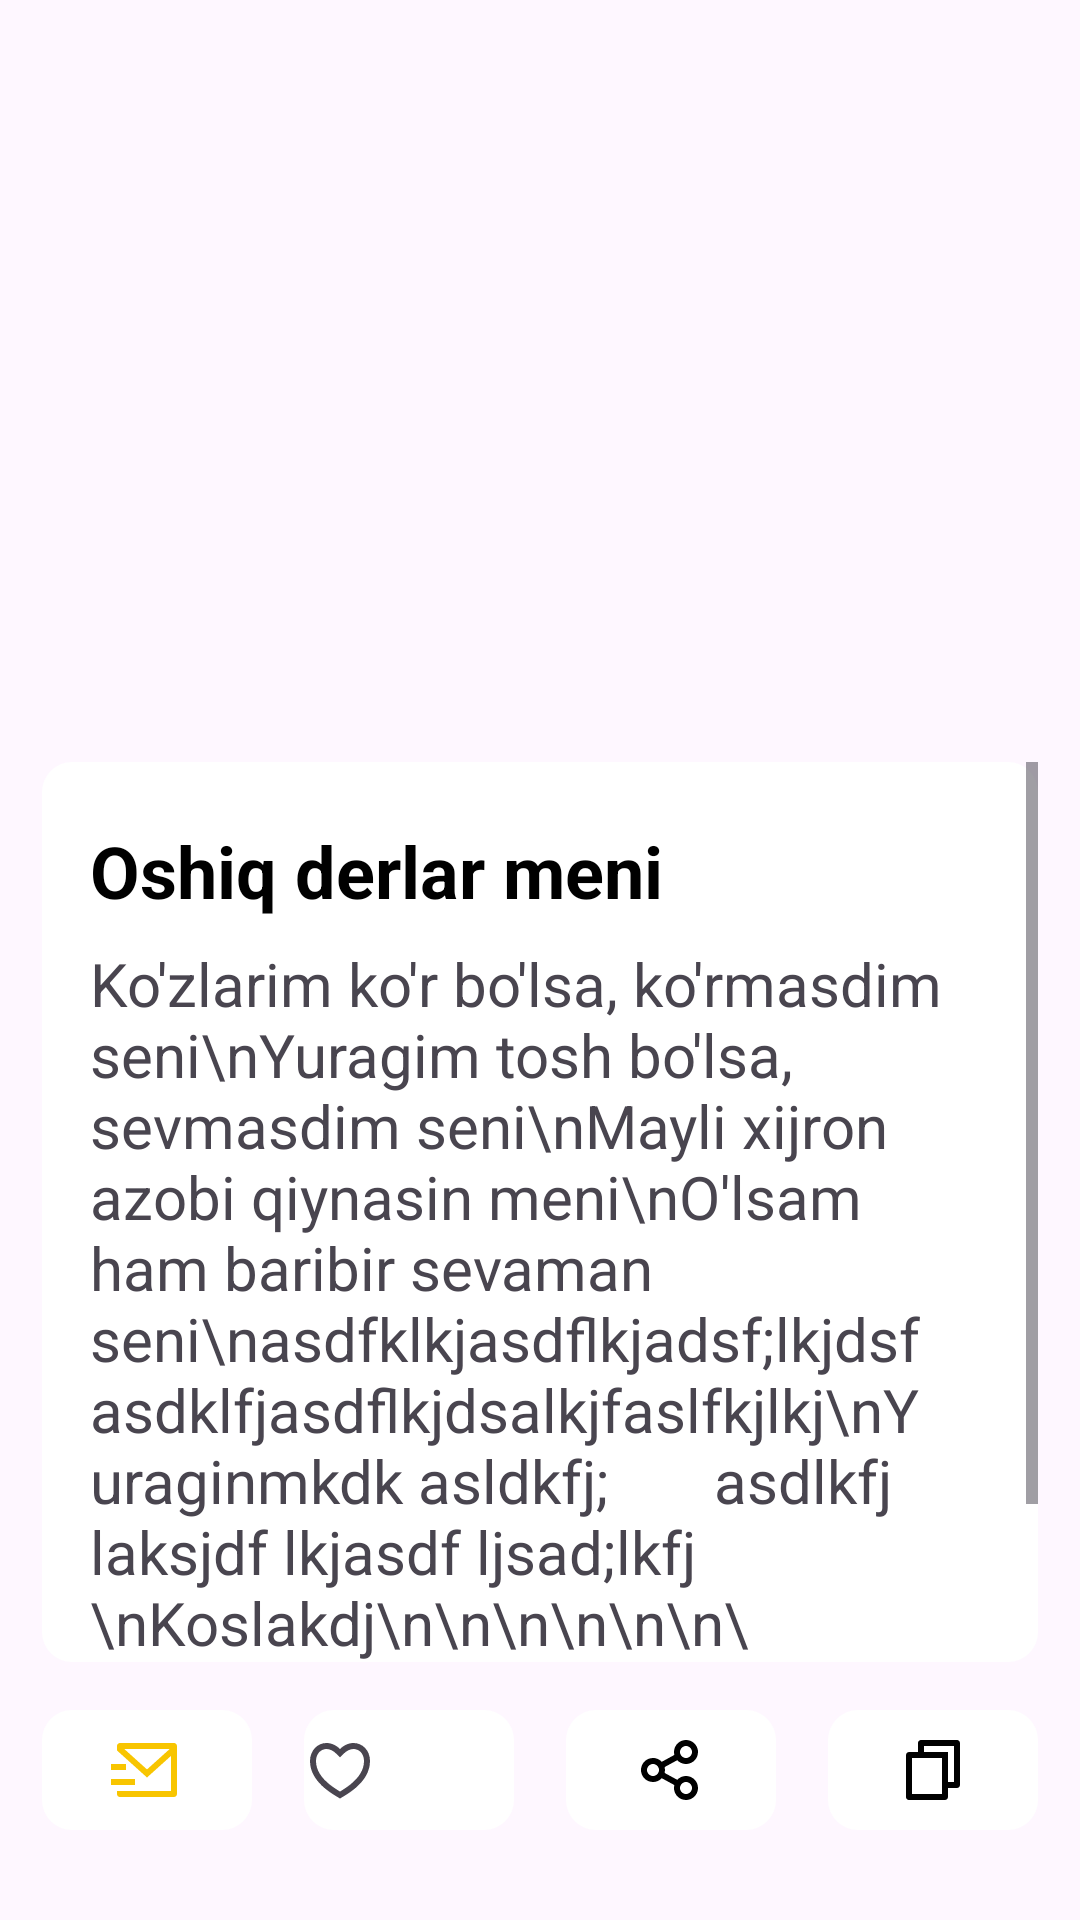

Where icons sit on this 1080px×1920px app screen, as region(x1, y1, x2, y2):
heart: region(310, 1743, 370, 1799)
share: region(641, 1740, 698, 1800)
